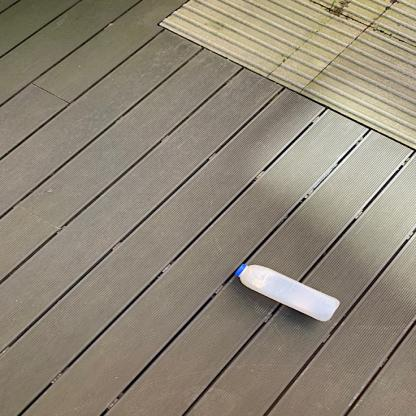trash: (235, 261, 338, 324)
